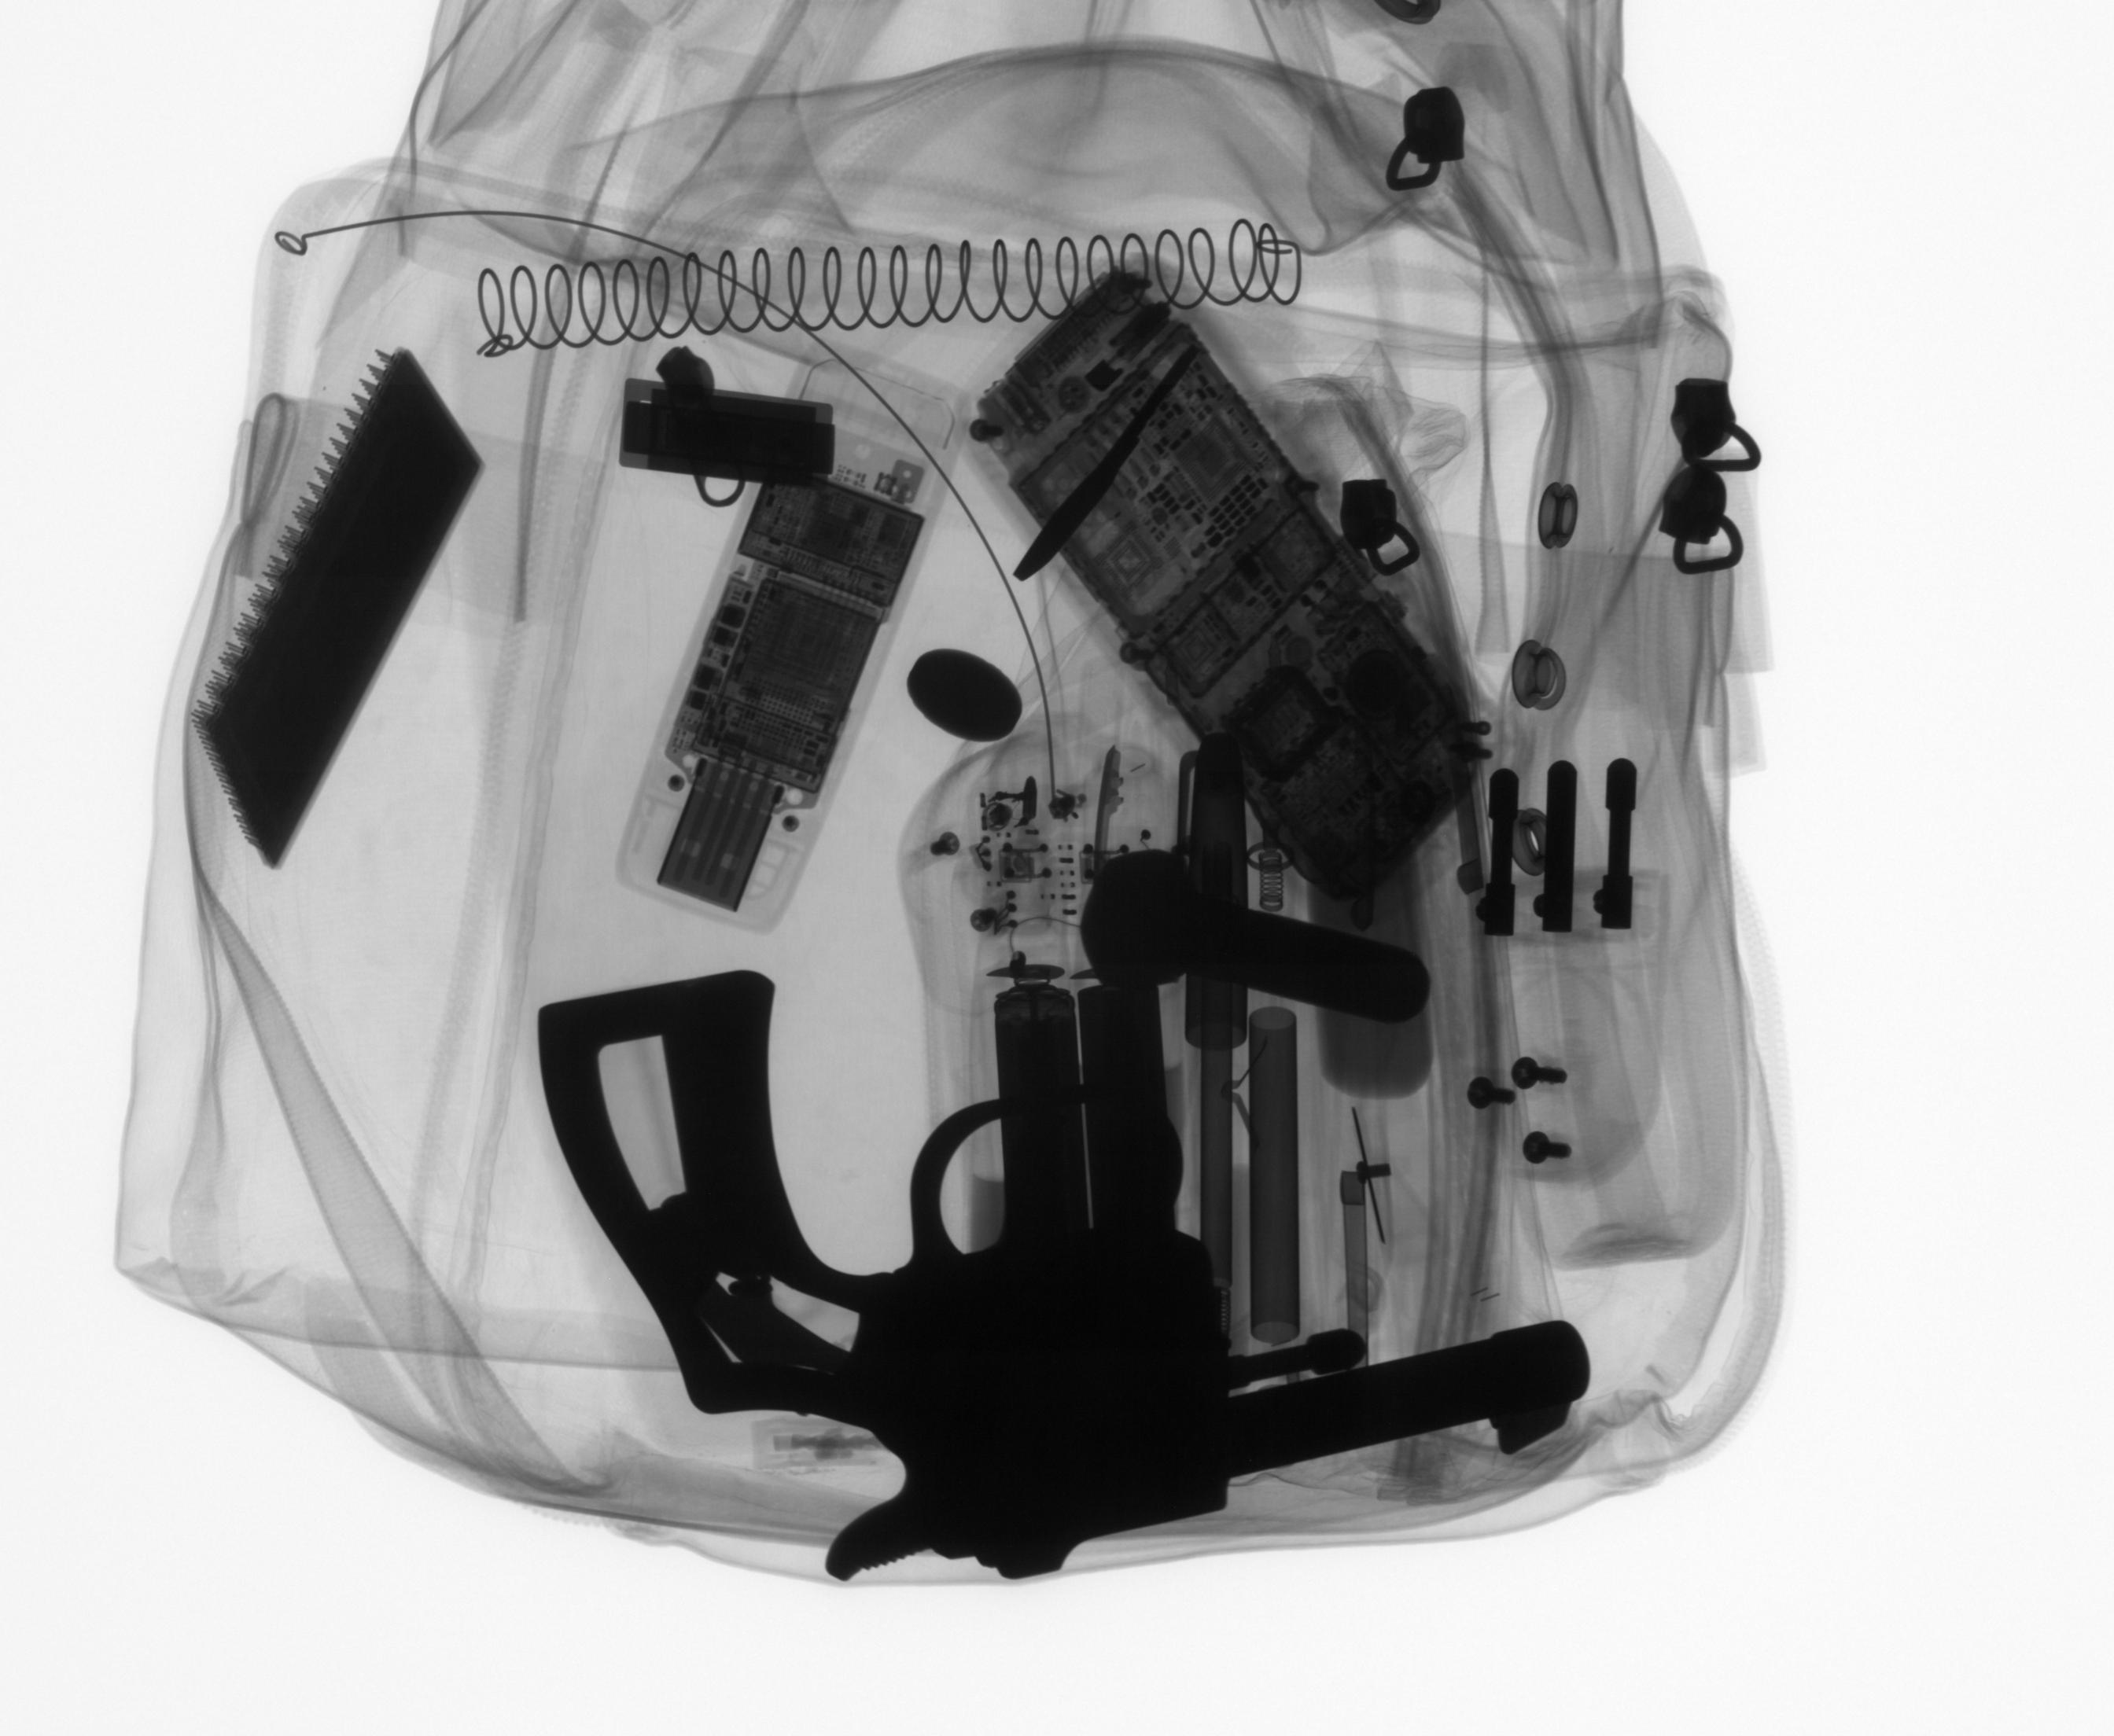Handgun: (524, 961, 1604, 1594)
